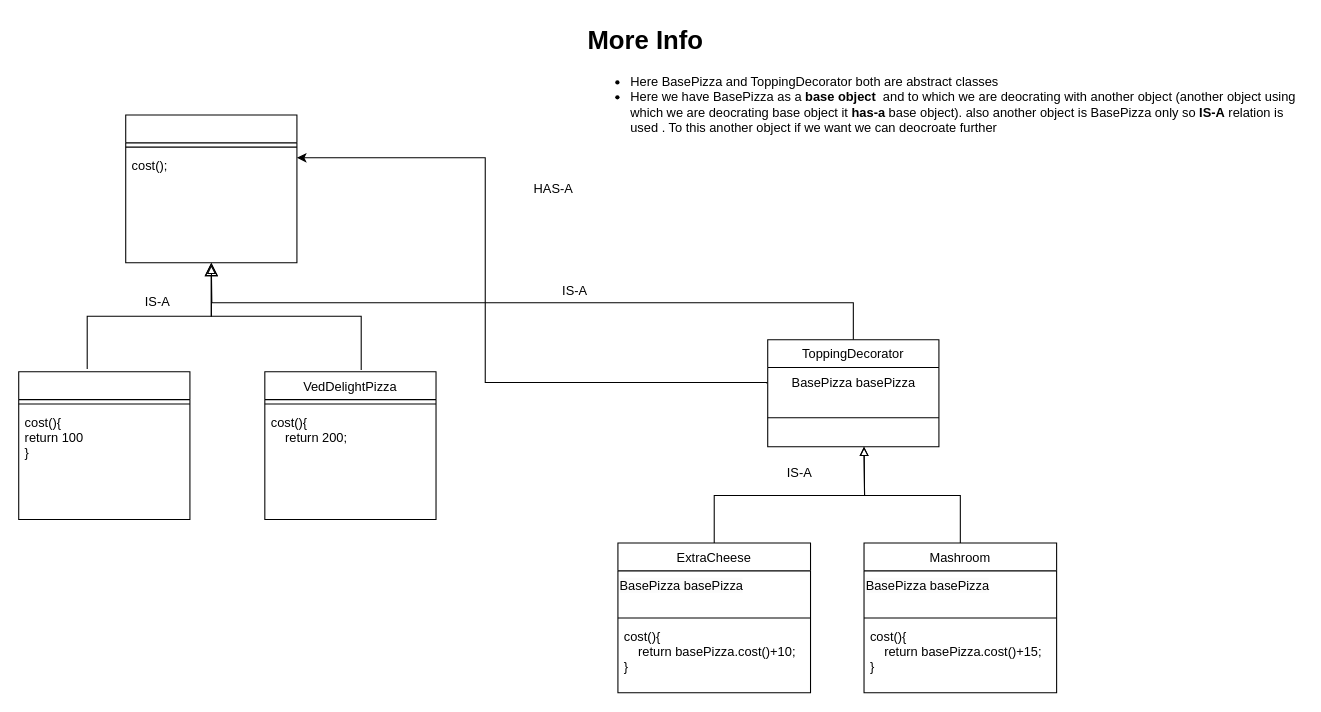
Image size: 1321x712. Some labels were removed from this diagram. Here are the shapes that lost their labels. From the top down, the box of each, then its label:
(125, 114, 297, 263): BasePizza
(18, 371, 190, 519): MargheritaPizza
